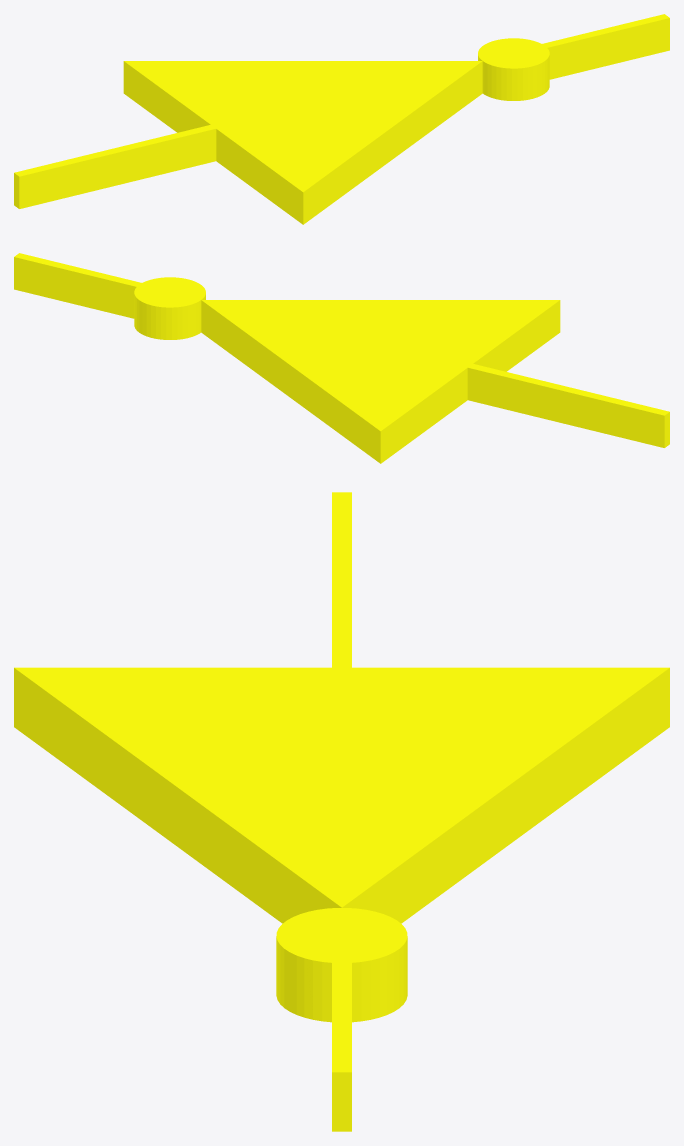
The model's file is NOT_GATE.glb.
The picture shows the model from 3 angles, top to bottom: view 1: azimuth 30°, elevation 25°; view 2: azimuth 150°, elevation 25°; view 3: azimuth 270°, elevation 25°; orthographic projection. The views are drawn at different scales.
Parts seen in each view (by area): view 1: NOT_GATE.STL; view 2: NOT_GATE.STL; view 3: NOT_GATE.STL.
Boxes of the visible parts, x1,y1,x2,y2 form: NOT_GATE.STL: [14, 14, 669, 224]; NOT_GATE.STL: [14, 253, 669, 463]; NOT_GATE.STL: [14, 492, 669, 1131].
Size of the model in its own units: 10.46 by 0.5 by 5.
